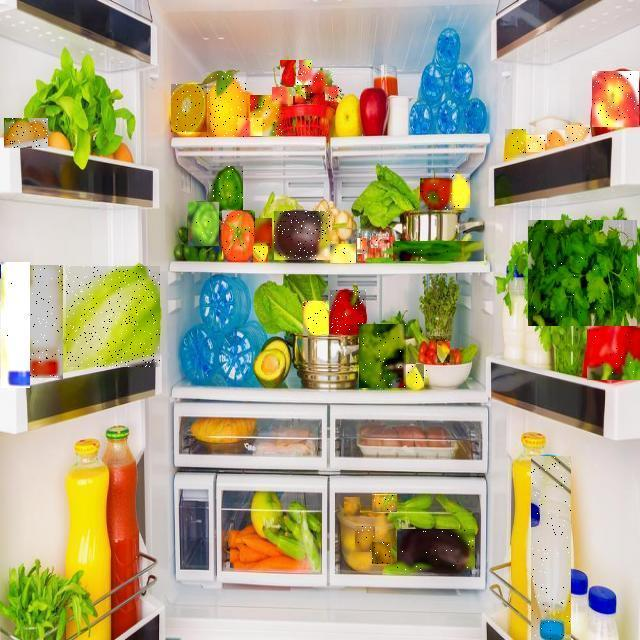Apple: (592, 71, 639, 127)
Aubergine: (397, 530, 475, 572), (275, 211, 333, 260)
Broccoli: (360, 324, 408, 388)
Eggs: (4, 118, 48, 148), (565, 125, 590, 141), (524, 135, 545, 152), (547, 131, 565, 147)
Green bell pepper: (209, 166, 243, 211), (188, 203, 219, 247)
Lemon: (303, 301, 329, 335), (451, 174, 471, 208), (505, 130, 526, 160), (408, 365, 428, 391), (330, 244, 356, 263), (438, 341, 454, 363), (254, 243, 272, 262)
Lettuce: (66, 266, 160, 367)
Milk: (531, 456, 571, 640), (30, 266, 63, 380), (1, 262, 30, 388)
Orange: (207, 72, 246, 137), (172, 84, 210, 132), (250, 95, 282, 136)
Parsley: (528, 220, 637, 326)
Potatoes: (355, 526, 375, 552), (372, 494, 397, 512), (372, 542, 391, 564), (344, 498, 360, 520)
Red bell pepper: (587, 326, 640, 380), (330, 290, 366, 333)
Spring onion: (393, 241, 484, 261)
Straw Berry: (280, 60, 296, 96), (308, 70, 332, 93), (239, 118, 263, 136), (272, 88, 293, 106), (296, 76, 310, 102), (299, 60, 312, 85), (326, 88, 342, 104)
Tomato Paste: (222, 211, 255, 261), (420, 178, 452, 210), (255, 218, 273, 246), (357, 238, 367, 254), (371, 238, 378, 252)
